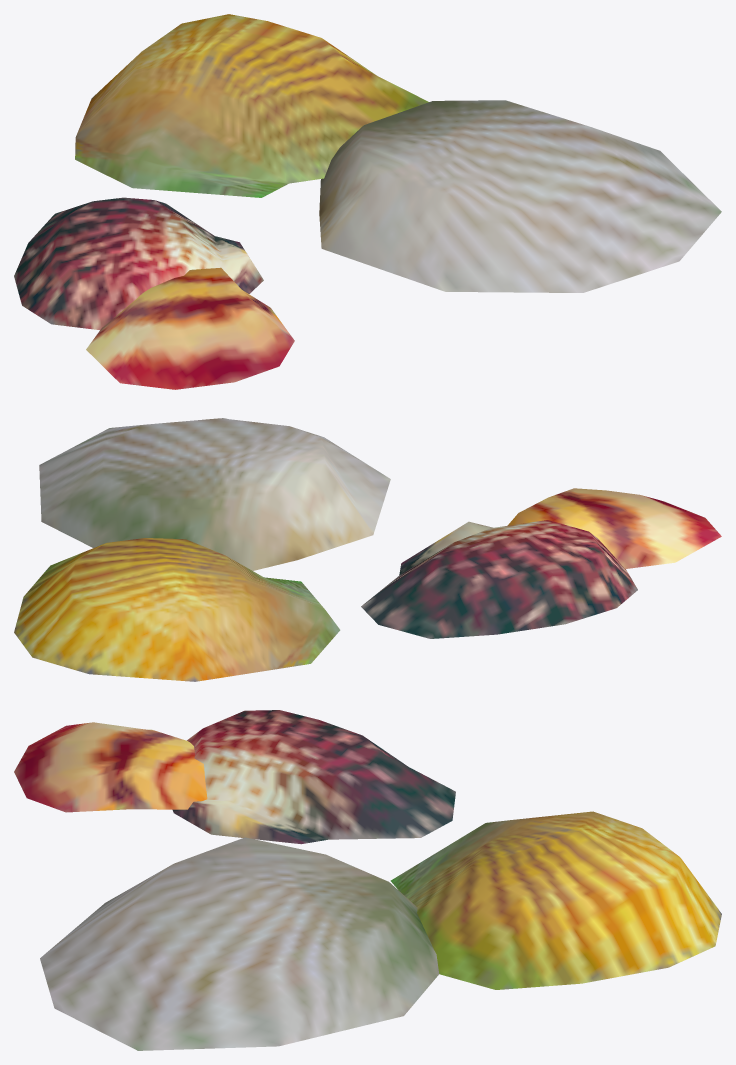
File: S_Build_Sea030_A1.FBX
The picture shows the model from 3 angles, top to bottom: view 1: azimuth 30°, elevation 25°; view 2: azimuth 150°, elevation 25°; view 3: azimuth 270°, elevation 25°; orthographic projection. The views are drawn at different scales.
Parts seen in each view (by area): view 1: S_Build_Sea030_A1; view 2: S_Build_Sea030_A1; view 3: S_Build_Sea030_A1.
Part boxes in pixels (bbox=[...]): S_Build_Sea030_A1: bbox=[14, 14, 721, 389]; S_Build_Sea030_A1: bbox=[14, 418, 721, 681]; S_Build_Sea030_A1: bbox=[14, 710, 721, 1050].
Bounding box in the file's own units: 122 × 13.69 × 114.
Materials: 1 (1 with a texture image).
